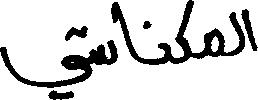X: (0, 21, 90, 99), (92, 0, 115, 75), (117, 0, 134, 63), (178, 0, 192, 68), (244, 4, 257, 55), (230, 5, 242, 60), (204, 23, 221, 61), (159, 38, 168, 68)
